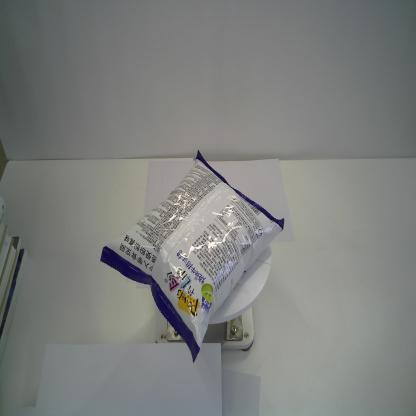Puffed Food: (100, 150, 285, 366)
